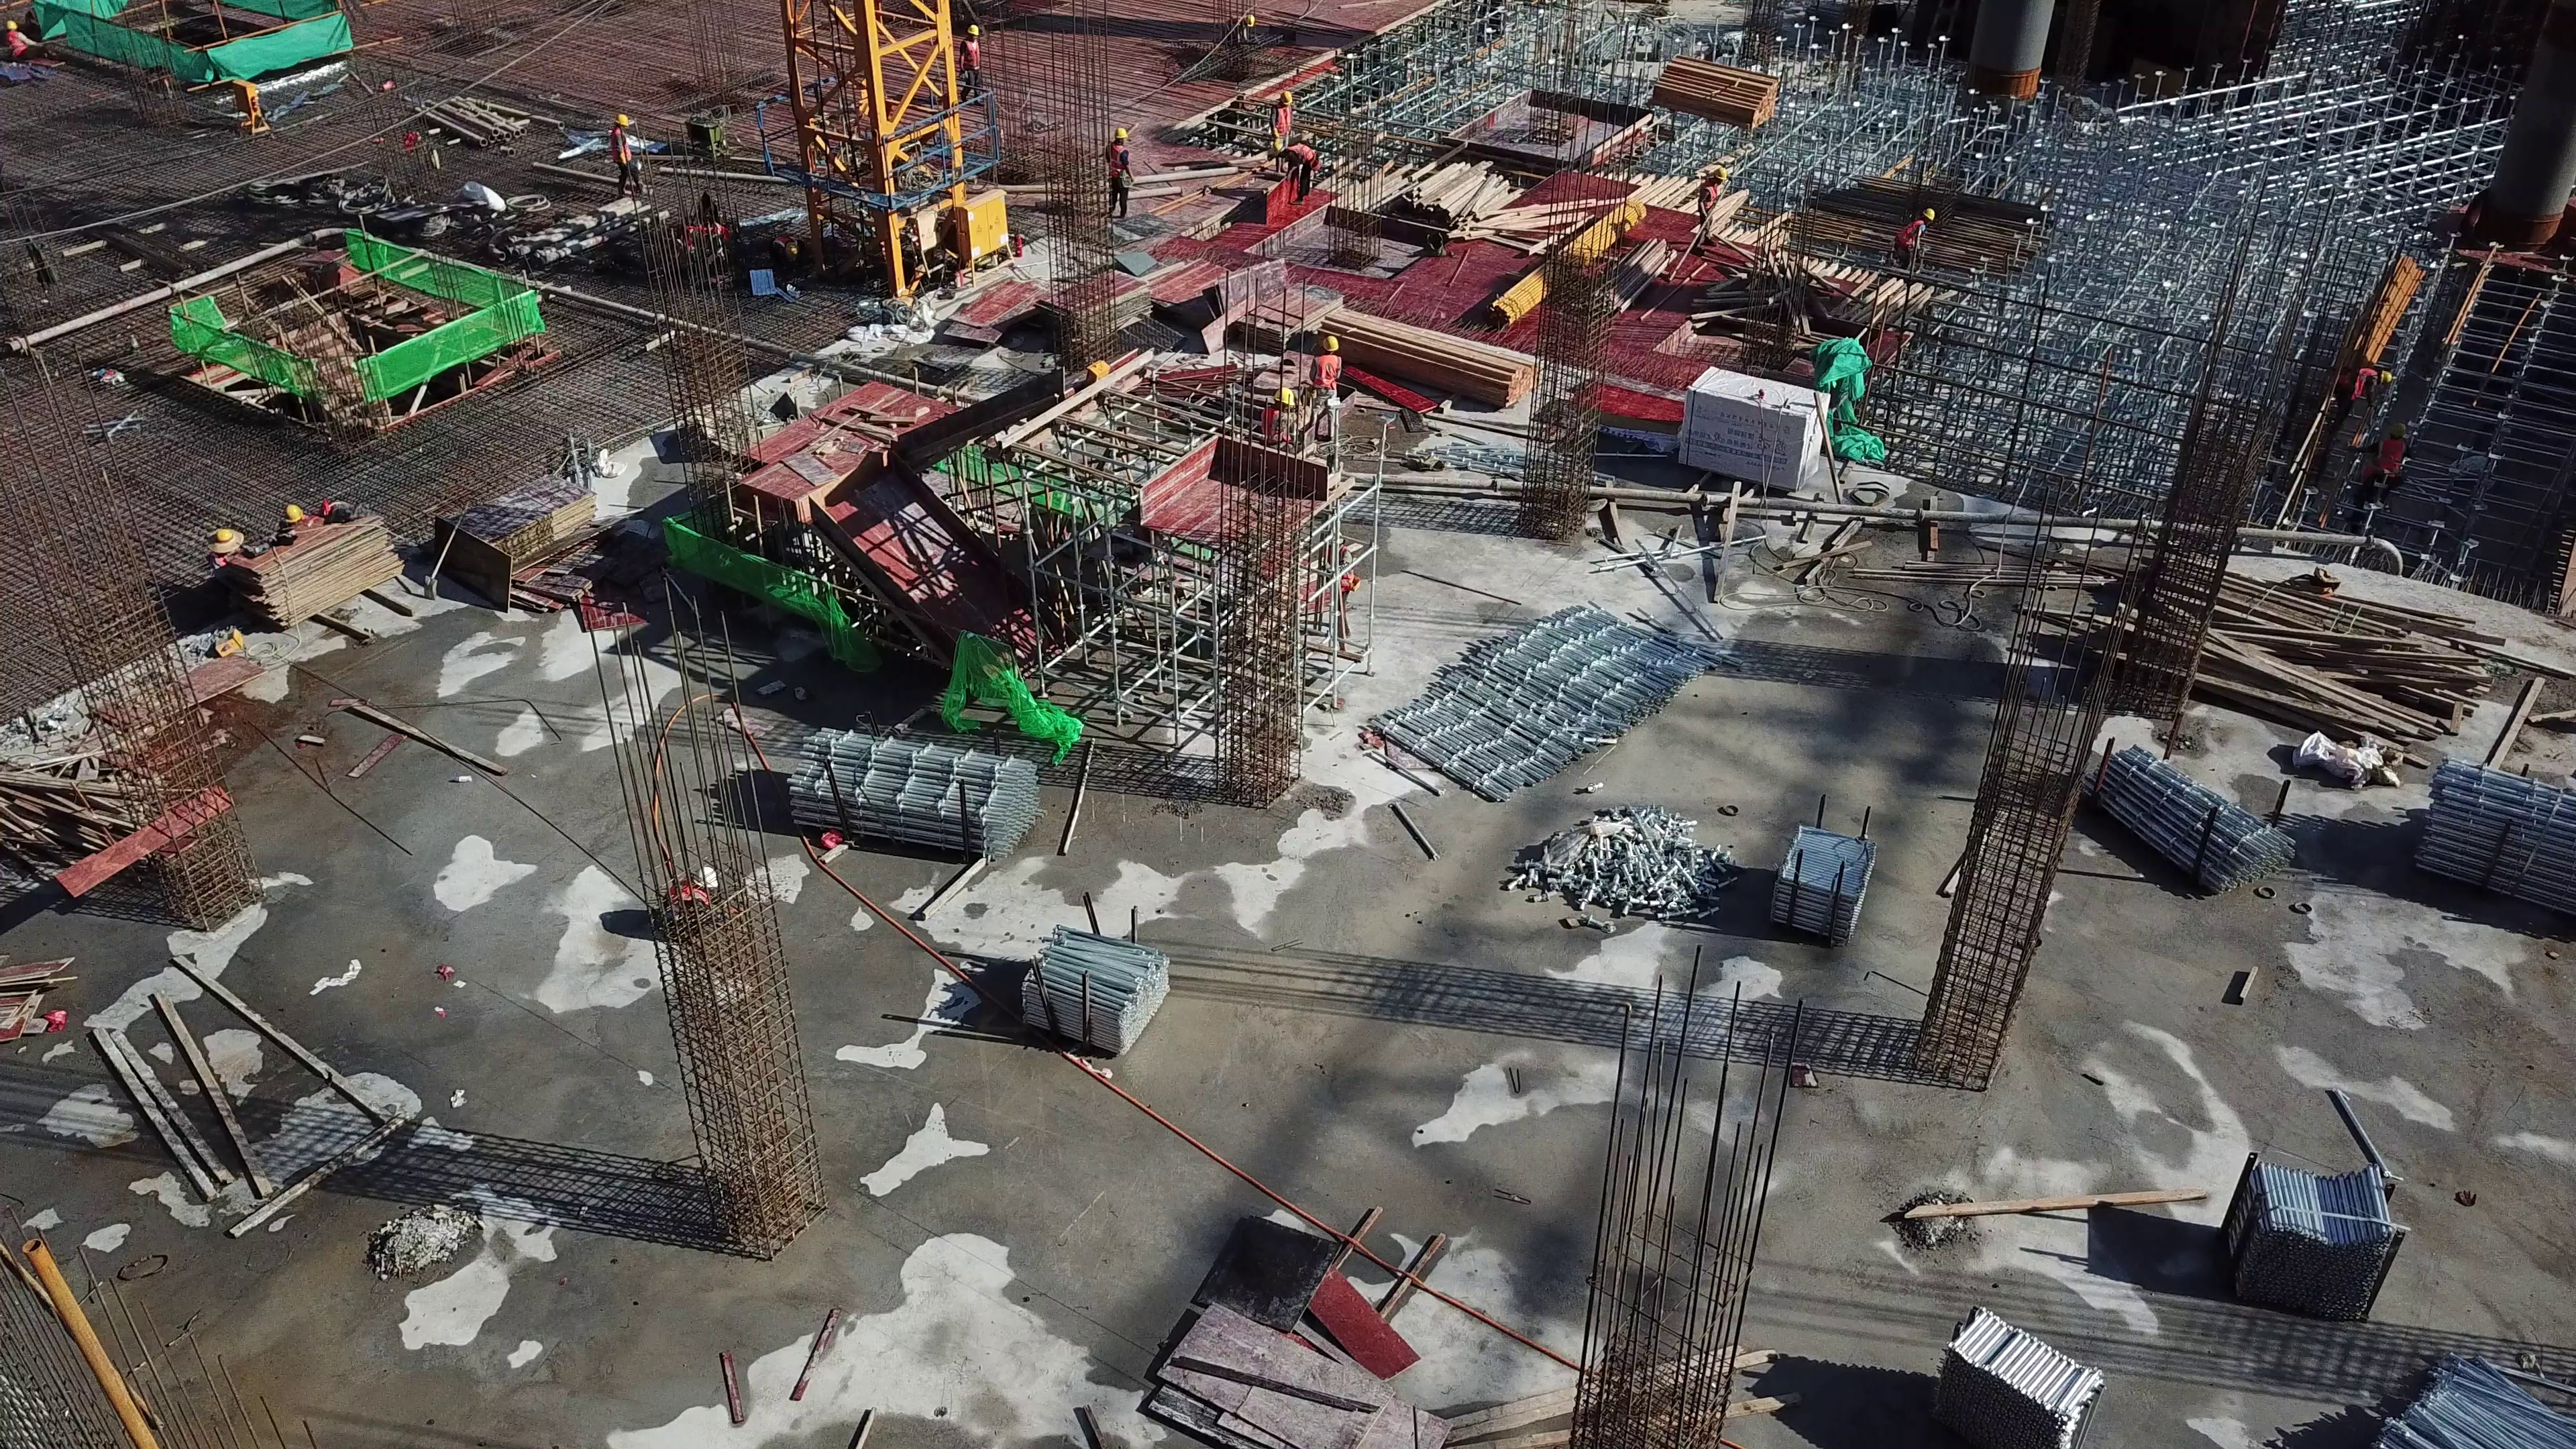board: (224, 502, 405, 643), (440, 470, 600, 619)
person: (1303, 327, 1350, 427), (1096, 117, 1134, 223), (598, 109, 645, 193), (1275, 147, 1330, 211), (1695, 162, 1727, 243), (951, 15, 985, 85), (1898, 211, 1933, 269), (1271, 91, 1303, 147)
scaffold: (1371, 599, 1723, 794), (1519, 797, 1872, 937), (788, 704, 1050, 859), (2385, 765, 2576, 921), (2076, 739, 2243, 890), (1957, 1313, 2114, 1449), (1015, 931, 1175, 1063), (2246, 1156, 2385, 1293), (2371, 1357, 2576, 1444)
wood: (2045, 543, 2511, 762), (1321, 301, 1546, 412), (1371, 158, 1569, 252)
